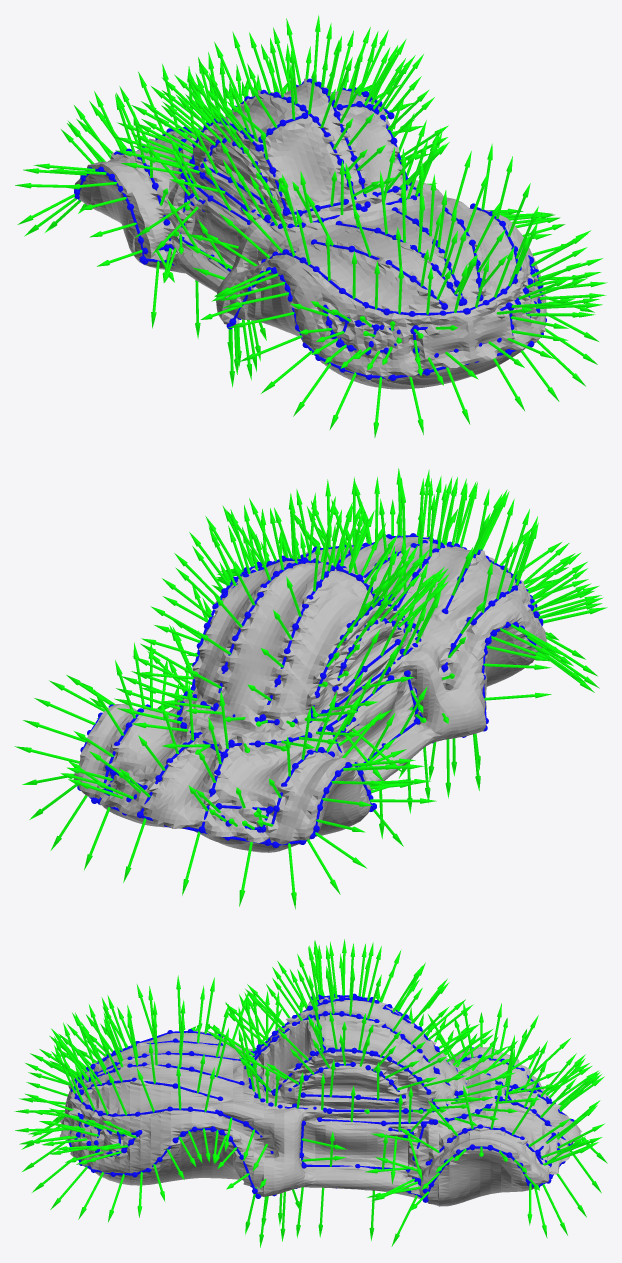
The model's file is author1_car.gltf.
3 views of the same model, one above another, from view 1: azimuth 30°, elevation 25°; view 2: azimuth 150°, elevation 25°; view 3: azimuth 270°, elevation 25° (orthographic). The views are drawn at different scales.
Bounding box in the file's own units: 0.5823 × 0.4662 × 1.01.
